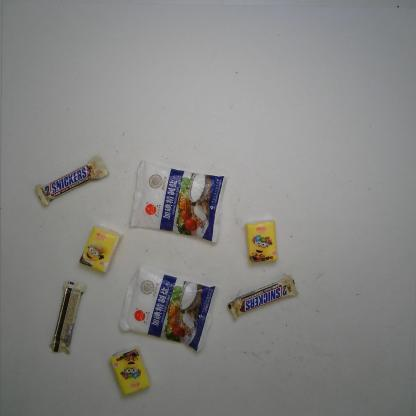Chocolate: (32, 152, 110, 206), (227, 273, 298, 320), (48, 281, 86, 355)
Seasoner: (127, 159, 227, 245), (118, 269, 216, 352)
Tissue: (78, 226, 120, 273), (110, 349, 151, 396), (244, 219, 278, 266)
